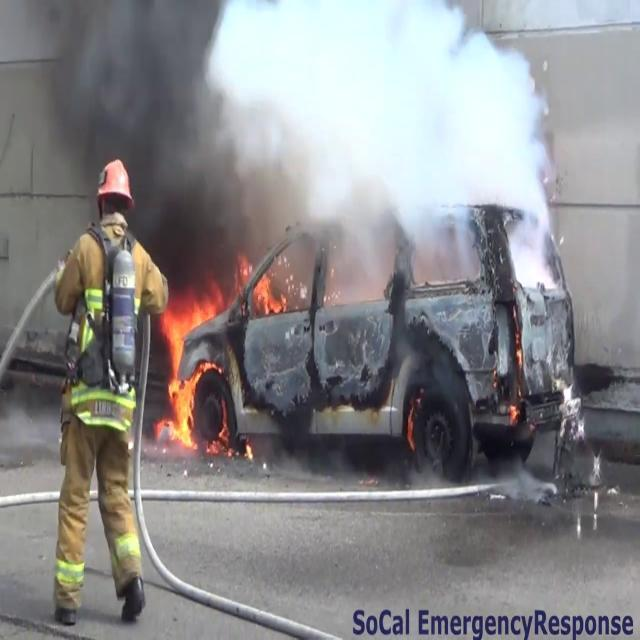Fire: (159, 291, 221, 452)
Smoke: (7, 0, 557, 290)
